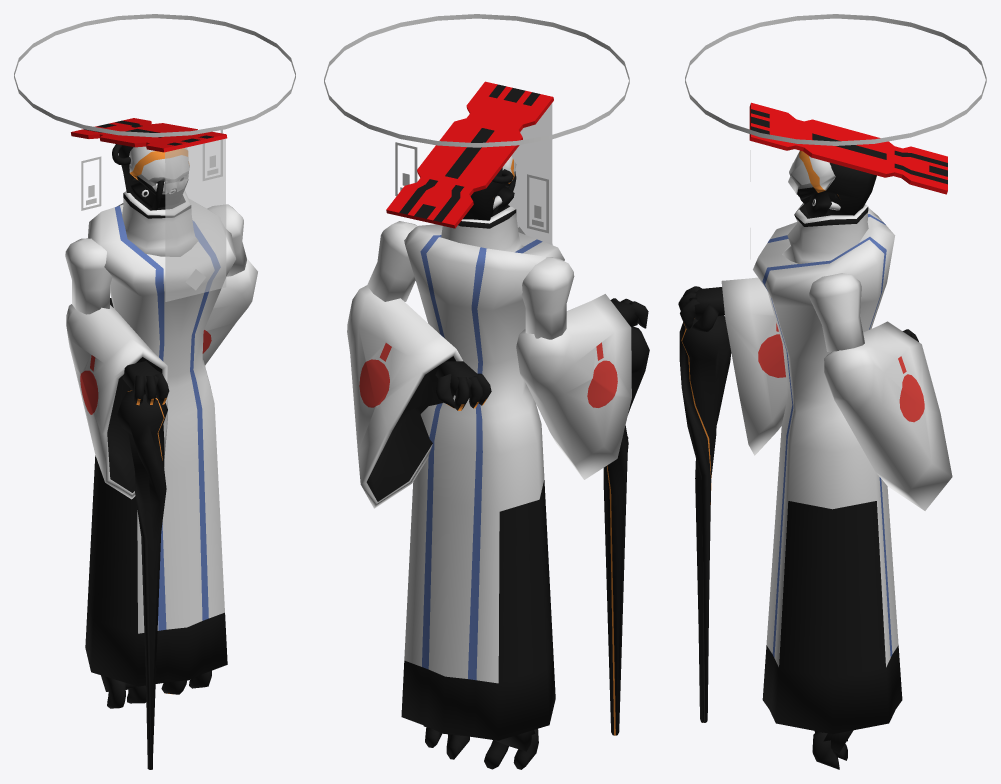
File: DRIZZLE.fbx
3 renders of one model, left to right at view 1: azimuth 30°, elevation 25°; view 2: azimuth 150°, elevation 25°; view 3: azimuth 270°, elevation 25°, orthographic. The views are drawn at different scales.
Visible parts, largest first — view 1: Cube, Plane.001, Cube.009, Cube.005, Cube.001, Circle, Cube.007, Plane, Cube.004, Cube.025, Cube.003, Cube.002 (+3 smaller); view 2: Cube, Cube.004, Cube.009, Plane, Cube.005, Plane.001, Cube.007, Circle, Cube.003, Cube.001, Cube.002, Plane.002 (+1 smaller); view 3: Cube, Cube.004, Cube.005, Cube.009, Plane, Cube.001, Cube.003, Circle, Cube.002, Cube.025, Cube.011, Cube.010.
Part boxes in pixels (left/top/right/bottom): Cube: left=85, top=199, right=235, bottom=686; Plane.001: left=165, top=138, right=226, bottom=301; Cube.009: left=66, top=304, right=167, bottom=499; Cube.005: left=117, top=390, right=167, bottom=769; Cube.001: left=122, top=190, right=198, bottom=256; Circle: left=14, top=14, right=295, bottom=137; Cube.007: left=65, top=238, right=112, bottom=314; Plane: left=71, top=118, right=227, bottom=152; Cube.004: left=202, top=258, right=257, bottom=365; Cube.025: left=129, top=146, right=189, bottom=201; Cube.003: left=207, top=204, right=246, bottom=276; Cube.002: left=119, top=145, right=187, bottom=208; Cube: left=401, top=224, right=564, bottom=740; Cube.004: left=347, top=285, right=462, bottom=508; Cube.009: left=516, top=294, right=631, bottom=479; Plane: left=386, top=81, right=553, bottom=228; Cube.005: left=603, top=326, right=649, bottom=735; Plane.001: left=508, top=103, right=552, bottom=244; Cube.007: left=521, top=257, right=574, bottom=339; Circle: left=324, top=14, right=629, bottom=147; Cube.003: left=367, top=221, right=417, bottom=301; Cube.001: left=441, top=205, right=523, bottom=252; Cube.002: left=463, top=167, right=514, bottom=220; Plane.002: left=395, top=142, right=548, bottom=233; Cube: left=753, top=208, right=902, bottom=734; Cube.004: left=823, top=321, right=952, bottom=510; Cube.005: left=679, top=315, right=731, bottom=722; Cube.009: left=721, top=277, right=787, bottom=455; Plane: left=749, top=102, right=947, bottom=194; Cube.001: left=782, top=203, right=868, bottom=263; Cube.003: left=809, top=273, right=864, bottom=351; Circle: left=685, top=14, right=986, bottom=145; Cube.002: left=805, top=162, right=876, bottom=217; Cube.025: left=788, top=150, right=840, bottom=210; Cube.011: left=689, top=287, right=724, bottom=320; Cube.010: left=812, top=731, right=839, bottom=769.
Size of the model in its own units: 88.66 by 220 by 90.59.
